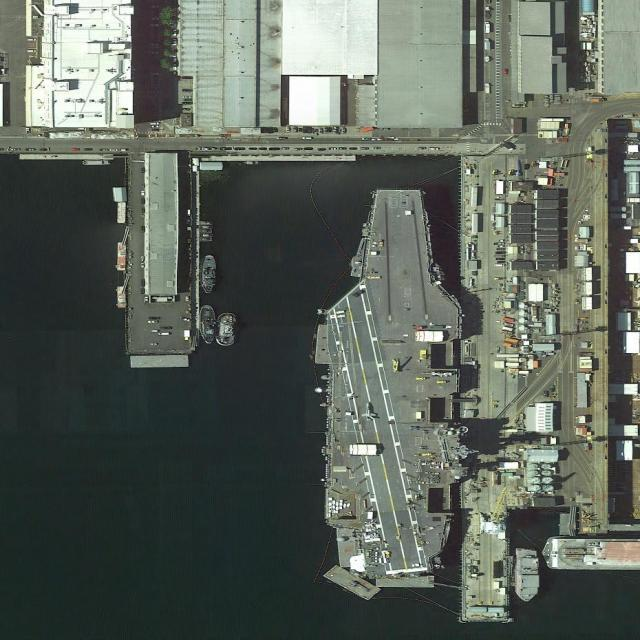Aircraft Carrier: (324, 189, 460, 575)
Hovercraft: (215, 309, 238, 346)
Other Ship: (516, 548, 540, 602), (202, 255, 217, 295), (200, 305, 215, 344), (200, 230, 213, 234), (200, 226, 213, 230), (200, 222, 213, 226), (200, 239, 213, 242), (200, 235, 213, 238)
